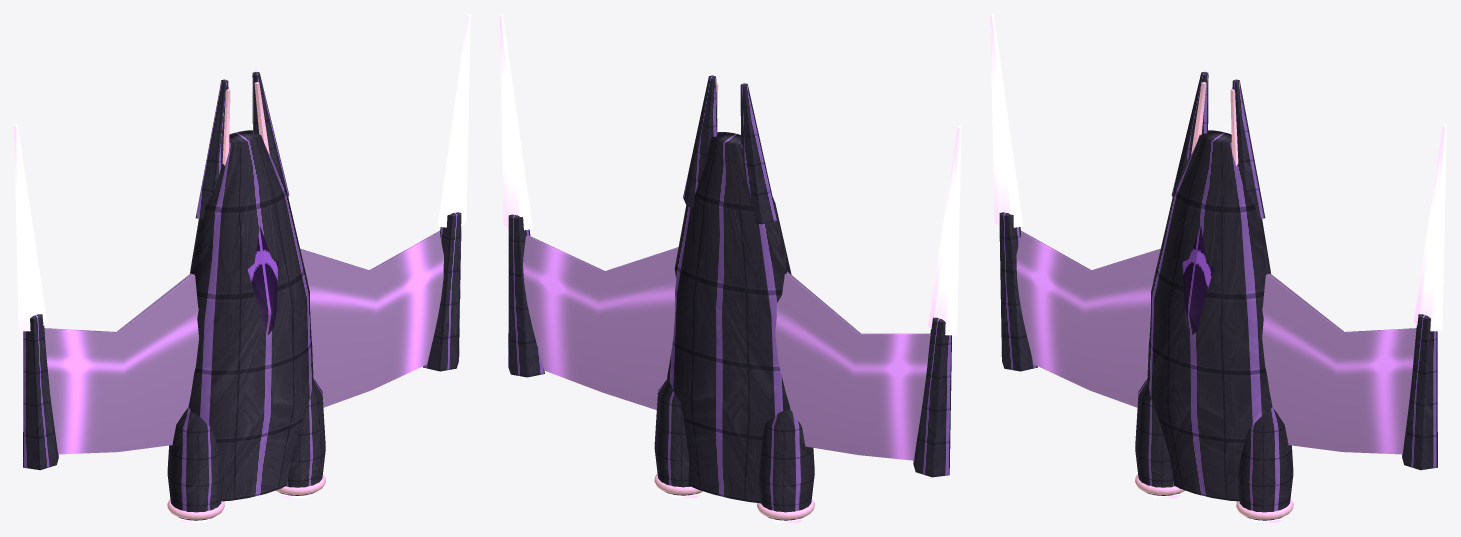
File: ship_a1_phantom.glb
3 views of the same model, side by side, from view 1: azimuth 30°, elevation 25°; view 2: azimuth 150°, elevation 25°; view 3: azimuth 330°, elevation 25° (orthographic).
Visible parts, largest first — view 1: ship_a1_phantom; view 2: ship_a1_phantom; view 3: ship_a1_phantom.
Boxes of the visible parts, left/top/right/bottom form: ship_a1_phantom: left=14, top=14, right=470, bottom=522; ship_a1_phantom: left=499, top=14, right=961, bottom=522; ship_a1_phantom: left=990, top=14, right=1446, bottom=522.
Bounding box in the file's own units: 3.79 × 3.47 × 0.577.
Materials: 5 (5 with a texture image).
